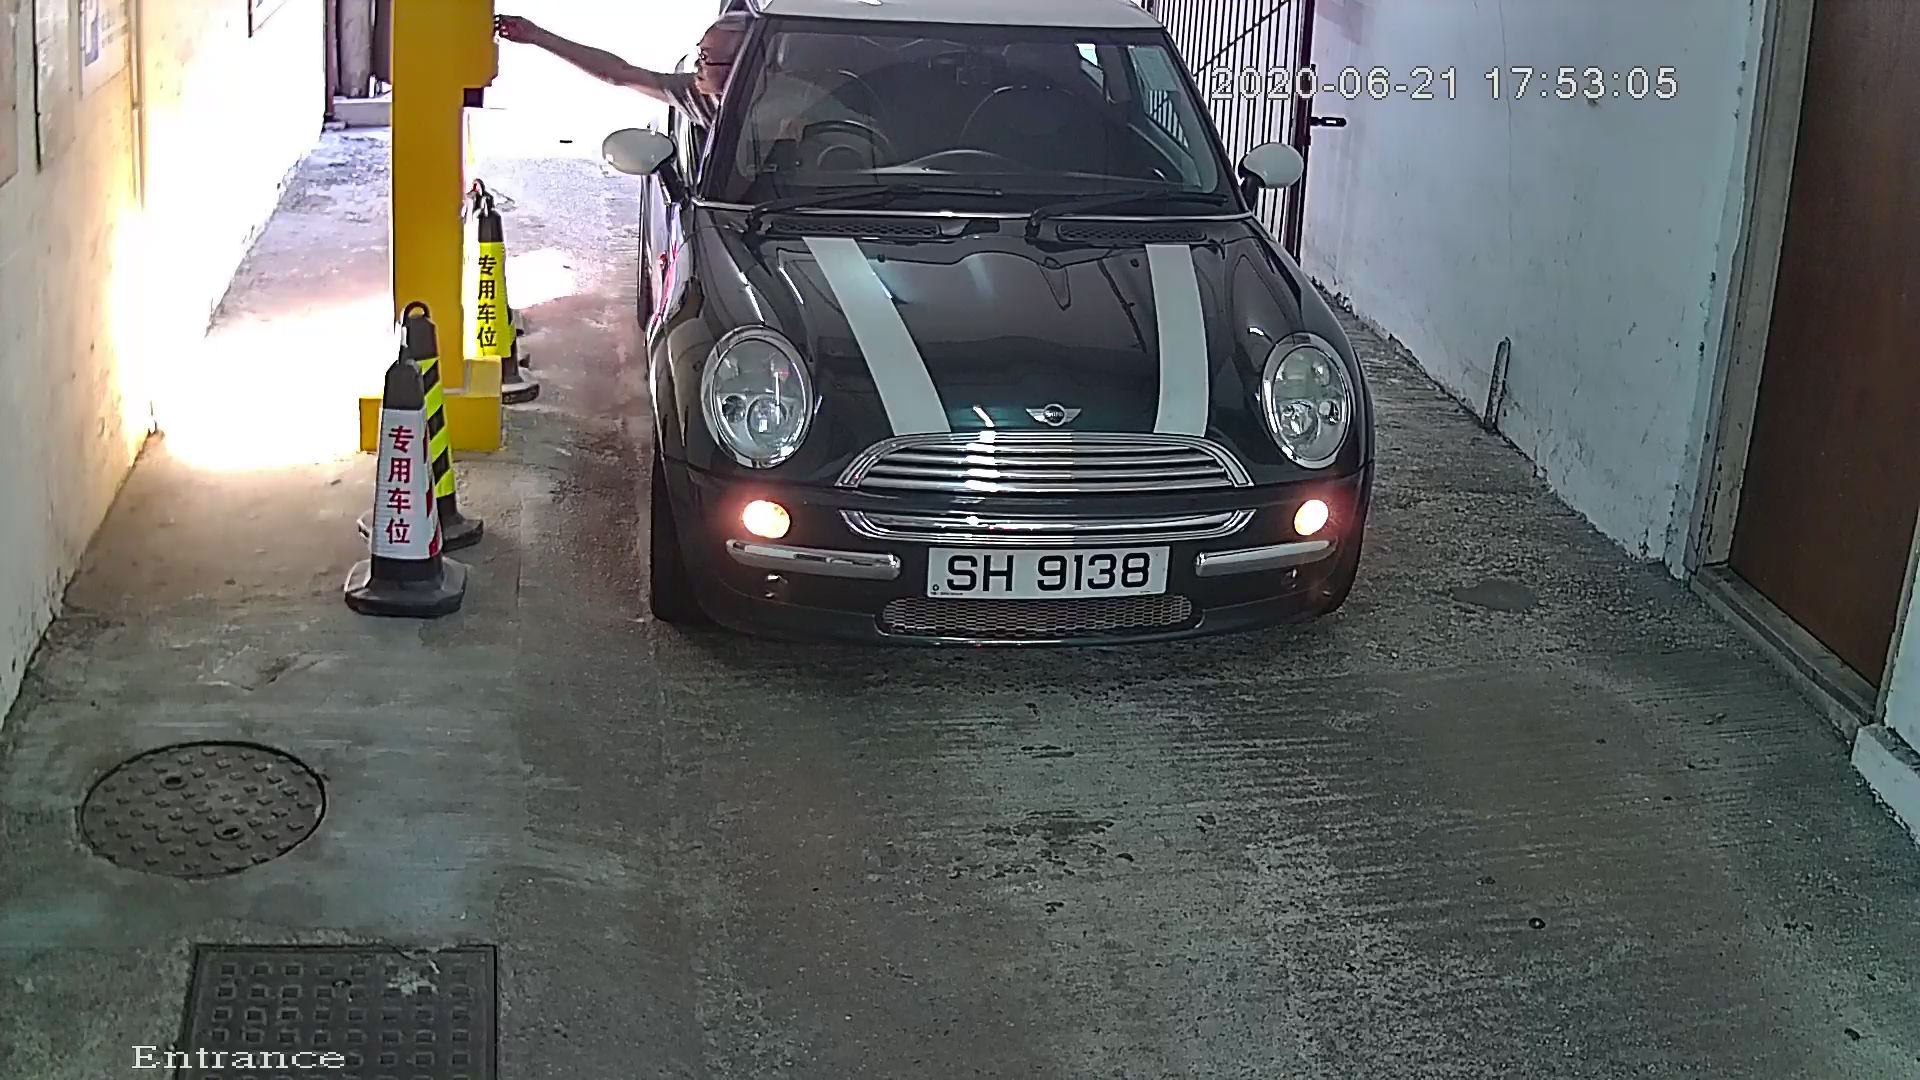privatecar: (585, 1, 1415, 694)
